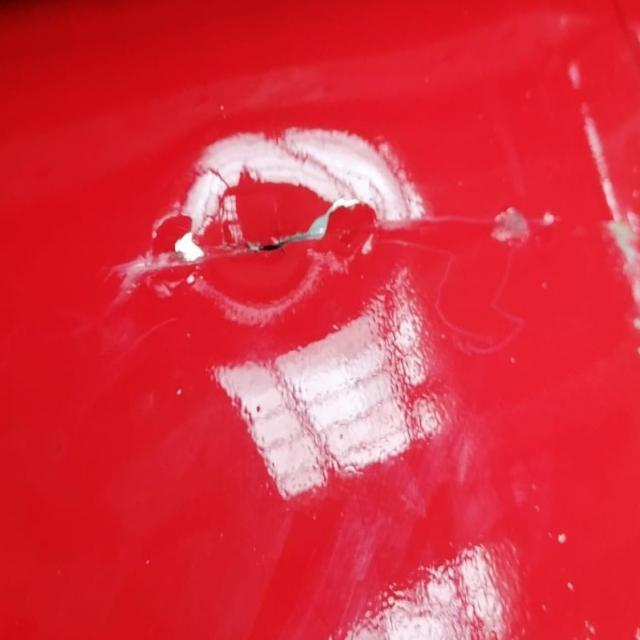crack: (116, 195, 507, 292)
